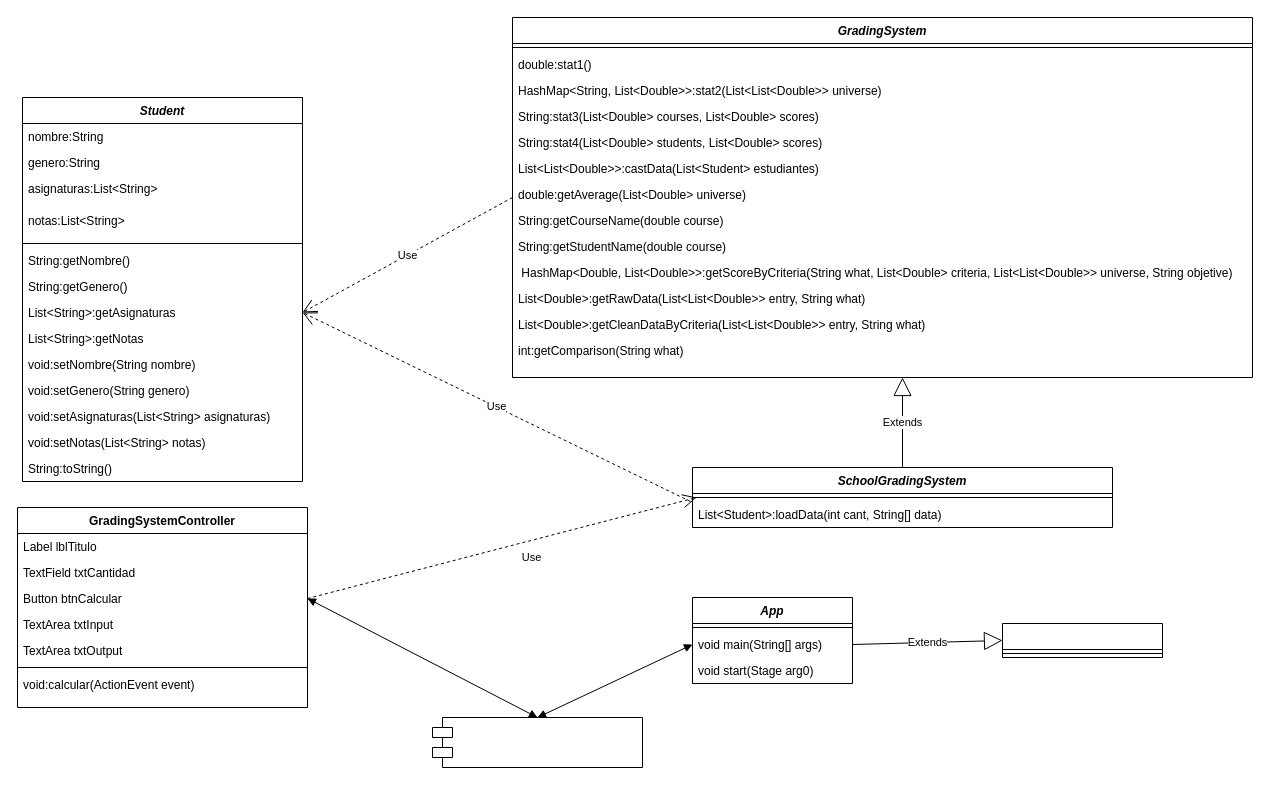
This 1270x785 diagram has some shape labels left out. Here are the shapes that lost their labels. From the top down, the centre of each, then its label:
At (1082,640): "Application".
At (537,742): "GradingSystemView.fxml".
